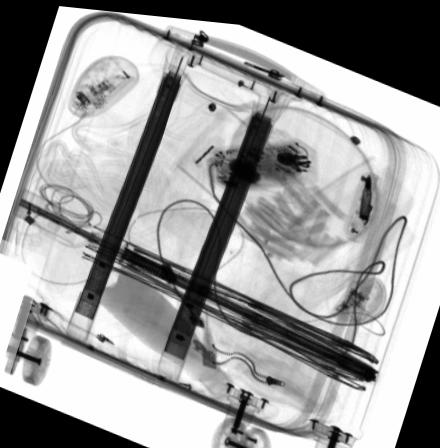Bullet: (358, 162, 371, 213)
